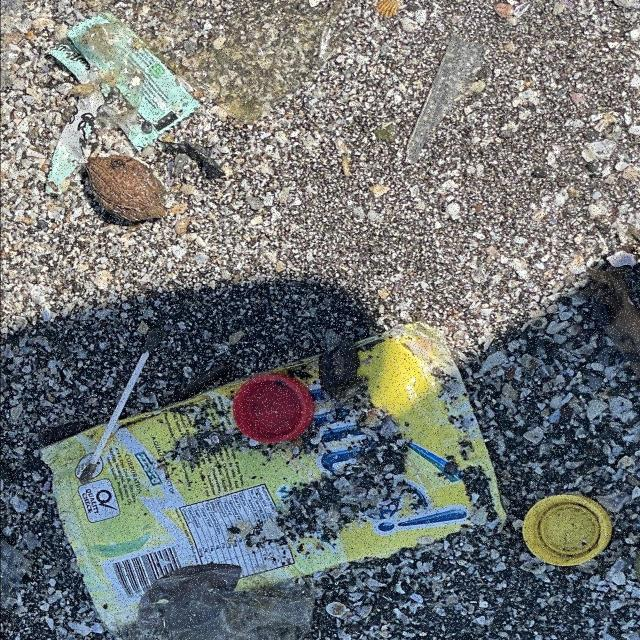plastic_waste: (46, 321, 509, 639), (47, 14, 202, 150), (523, 496, 614, 569), (234, 373, 318, 444)
